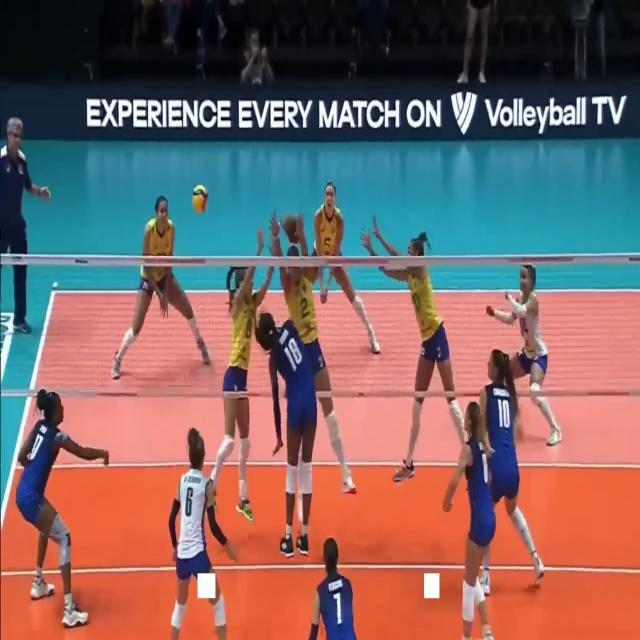volleyball: (192, 184, 208, 213)
